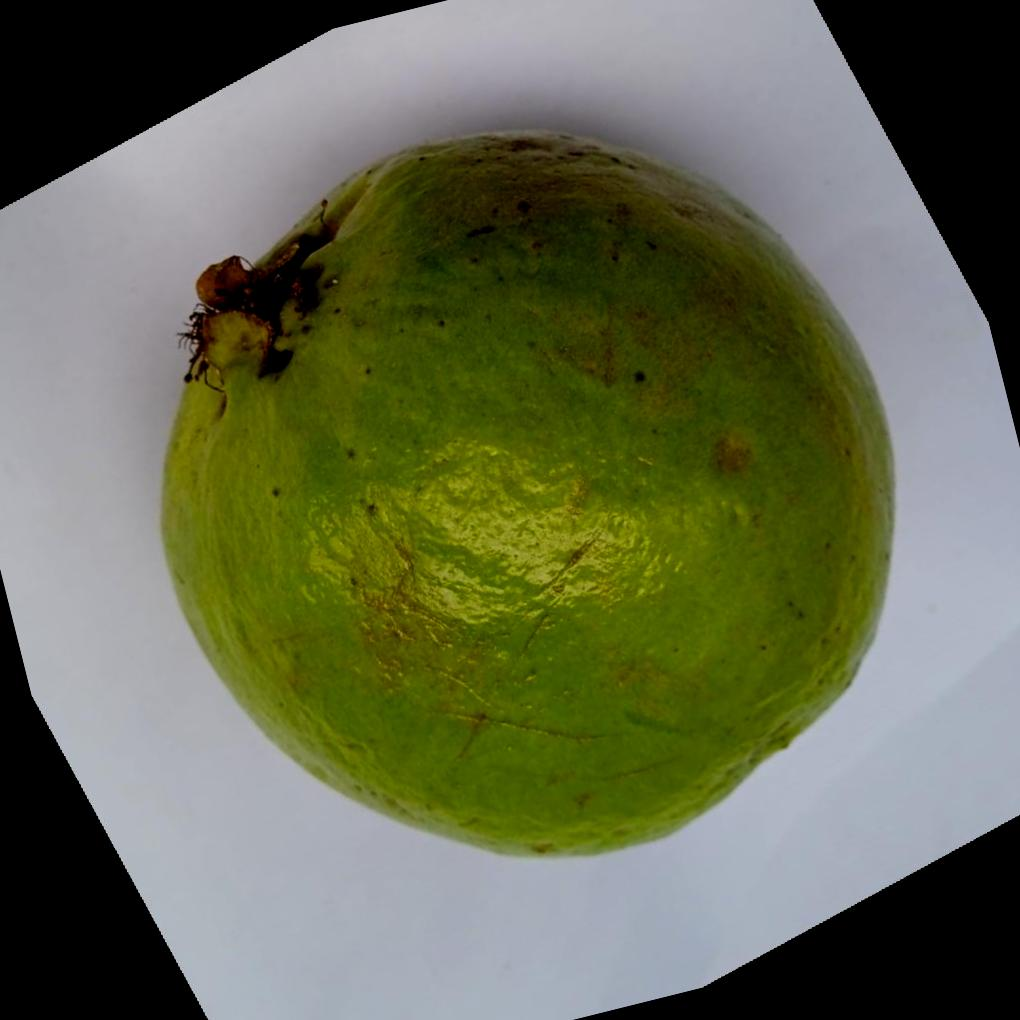FreshGuava: (154, 129, 893, 862)
